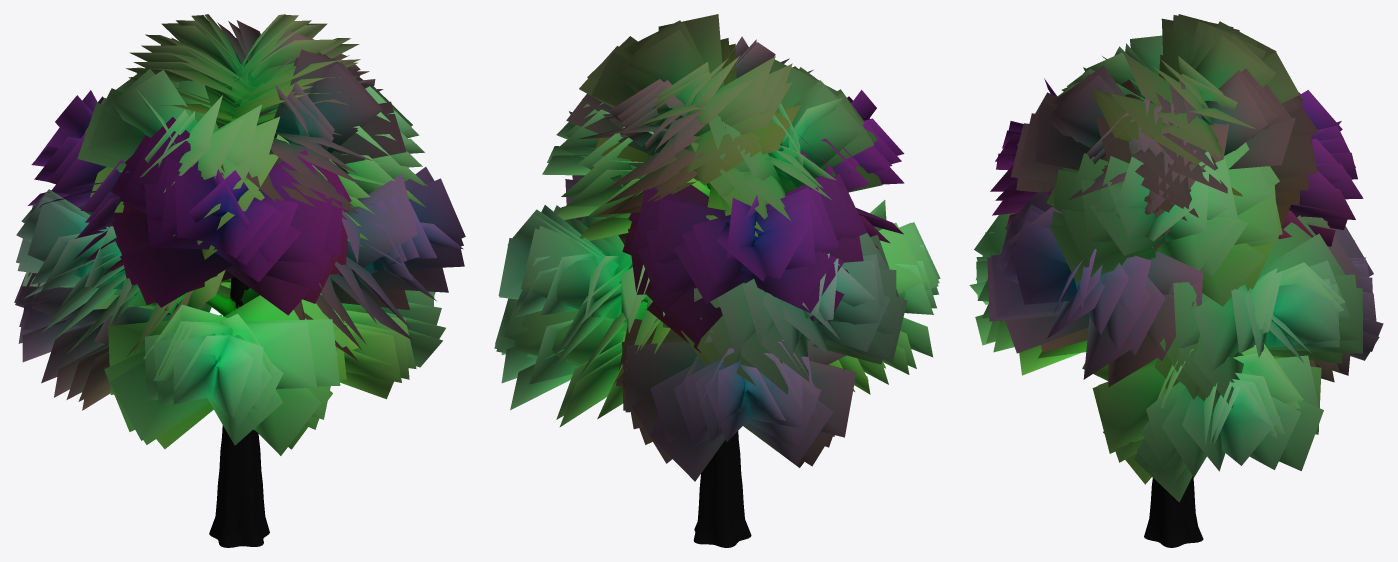
The model's file is tree_swann_02.fbx.
3 renders of one model, left to right at view 1: azimuth 30°, elevation 25°; view 2: azimuth 150°, elevation 25°; view 3: azimuth 270°, elevation 25°, orthographic. The views are drawn at different scales.
Parts seen in each view (by area): view 1: Tree_1, Tree_0; view 2: Tree_1, Tree_0; view 3: Tree_1, Tree_0.
Part boxes in pixels (box(x1,y1,x2,y2)): Tree_1: box(14, 14, 465, 455); Tree_0: box(188, 143, 293, 547); Tree_1: box(494, 14, 940, 481); Tree_0: box(643, 164, 775, 547); Tree_1: box(969, 14, 1383, 502); Tree_0: box(1144, 314, 1275, 547).
Size of the model in its own units: 1007 by 1271 by 957.
